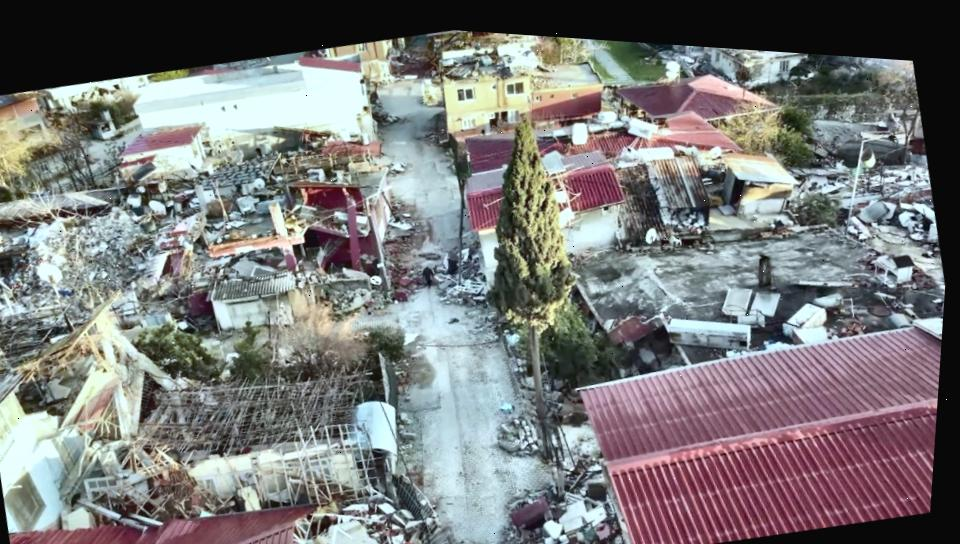kapali: (392, 384, 579, 544), (381, 176, 502, 369)
